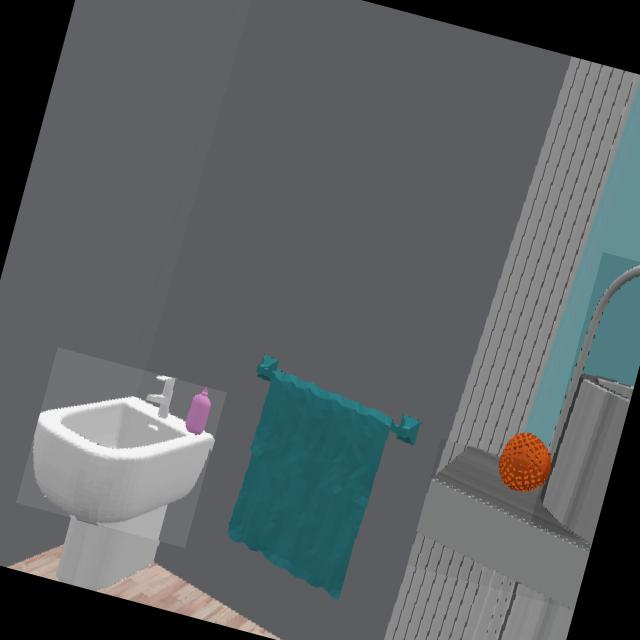shelf: (416, 447, 590, 608)
washbasin: (540, 267, 640, 543), (34, 379, 212, 525)
